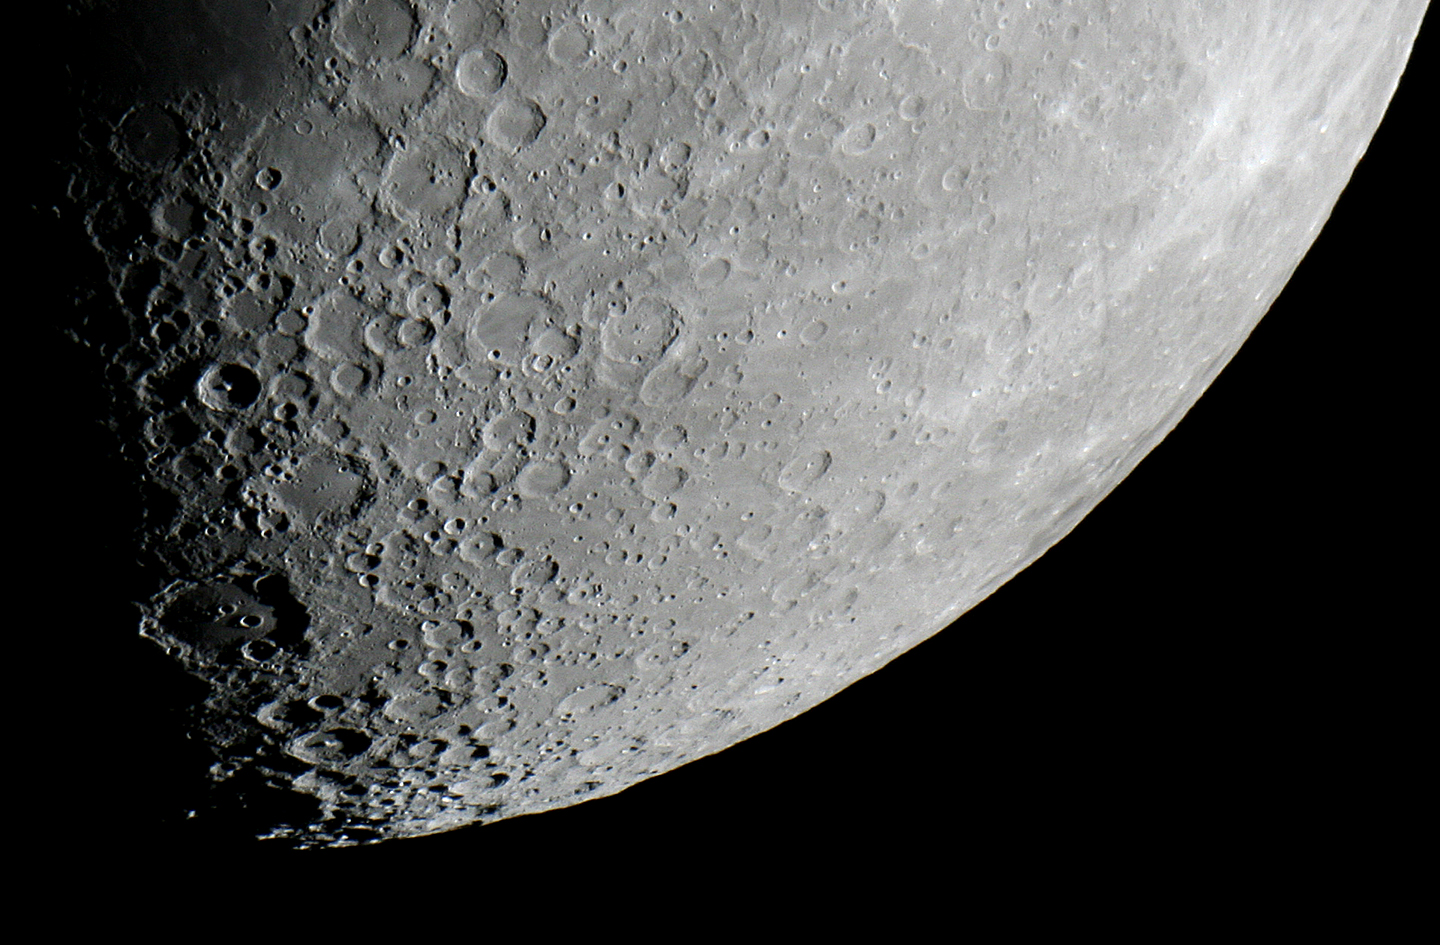crater: (127, 559, 344, 689), (280, 725, 392, 779), (188, 356, 271, 420), (952, 49, 1020, 121), (475, 97, 560, 152), (541, 17, 614, 80), (447, 47, 517, 103), (549, 680, 635, 722), (824, 482, 892, 534), (627, 635, 702, 680), (925, 148, 976, 198), (962, 410, 1015, 459), (685, 255, 739, 298), (835, 118, 884, 162), (892, 83, 936, 124), (793, 316, 839, 355), (247, 160, 294, 194), (1302, 111, 1340, 144), (286, 109, 319, 146), (889, 472, 919, 508)
